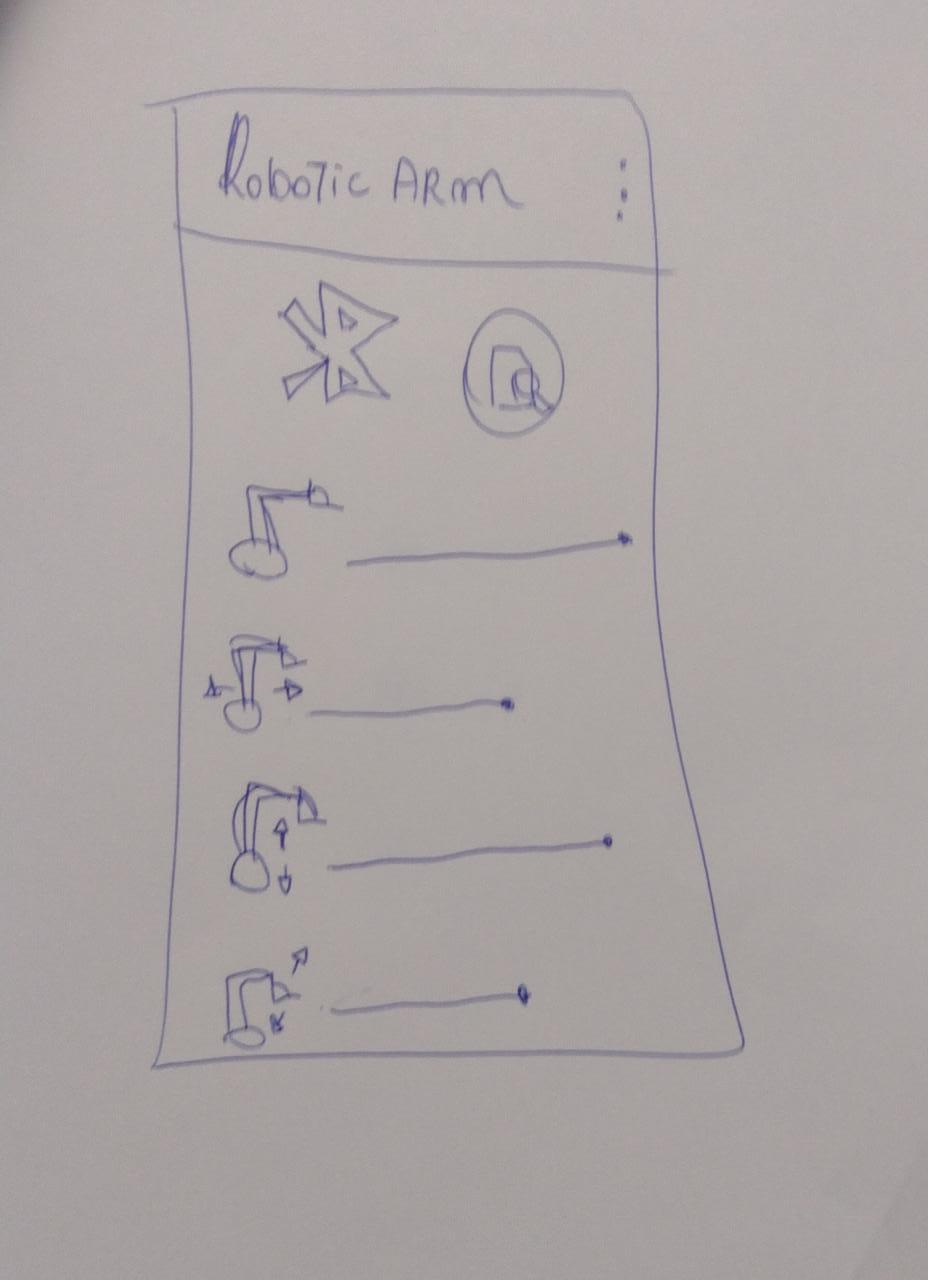Image: (282, 278, 397, 403), (461, 308, 566, 439), (226, 780, 325, 894), (229, 481, 343, 579), (199, 632, 306, 733), (223, 947, 308, 1050)
Label: (219, 114, 629, 222)
Screen: (150, 86, 746, 1070)
Slider: (328, 837, 614, 871), (346, 533, 632, 567), (330, 980, 532, 1022), (310, 698, 516, 718)
